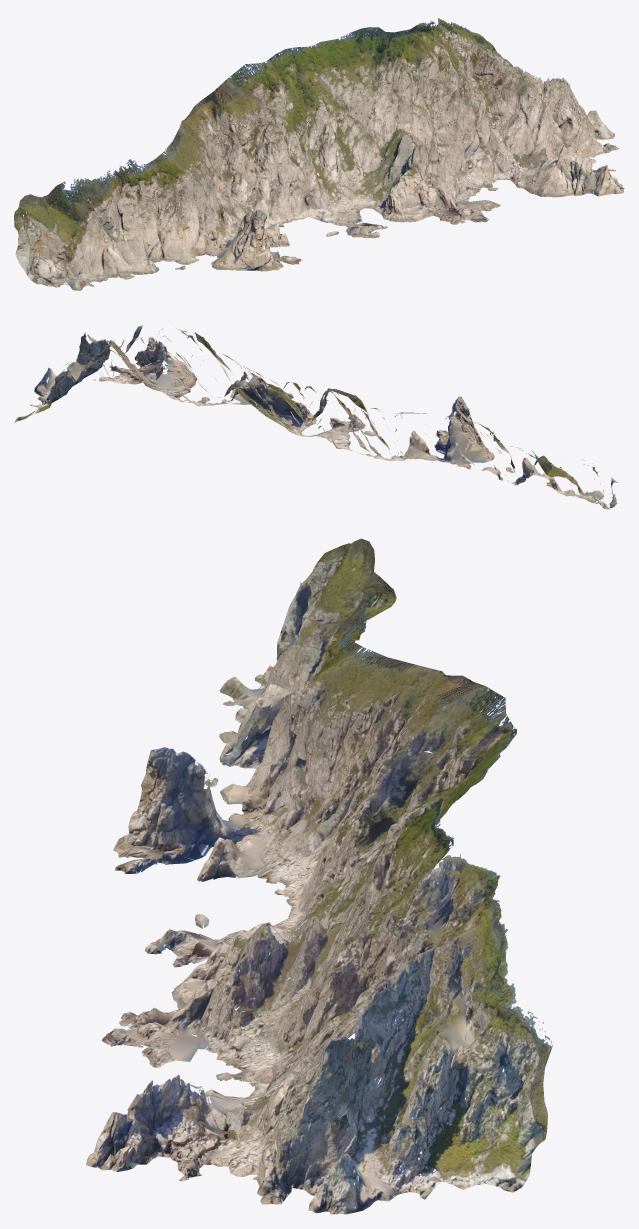
The model's file is acantilado_n5.glb.
3 views of the same model, one above another, from view 1: azimuth 30°, elevation 25°; view 2: azimuth 150°, elevation 25°; view 3: azimuth 270°, elevation 25° (orthographic). The views are drawn at different scales.
Parts seen in each view (by area): view 1: norm; view 2: norm; view 3: norm.
Part boxes in pixels (x1,y1,x2,y2): norm: [14, 18, 624, 290]; norm: [14, 325, 617, 509]; norm: [86, 538, 552, 1214].
Bounding box in the file's own units: 40 × 8.14 × 14.01.
Materials: 1 (1 with a texture image).
